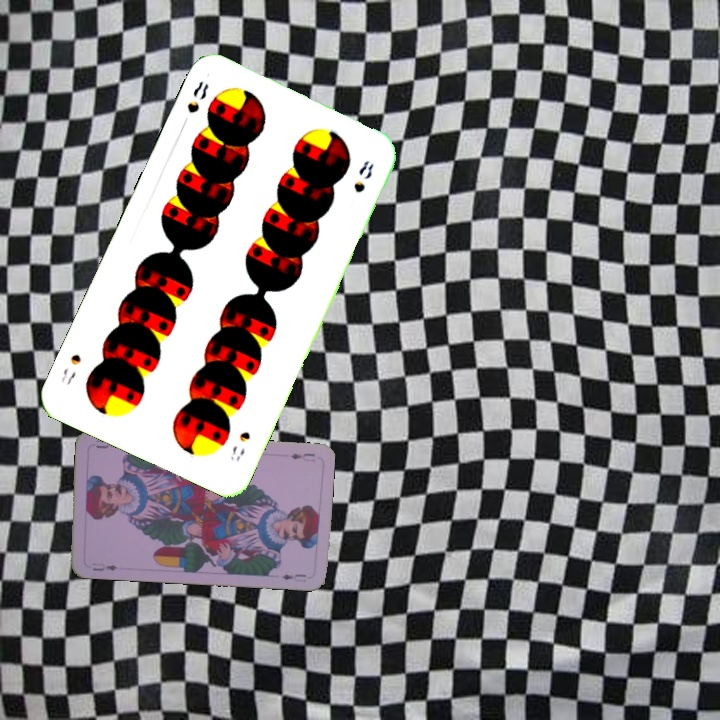EU: (88, 559, 124, 573), (287, 449, 318, 464)
S8: (182, 77, 212, 116), (226, 427, 253, 465)
